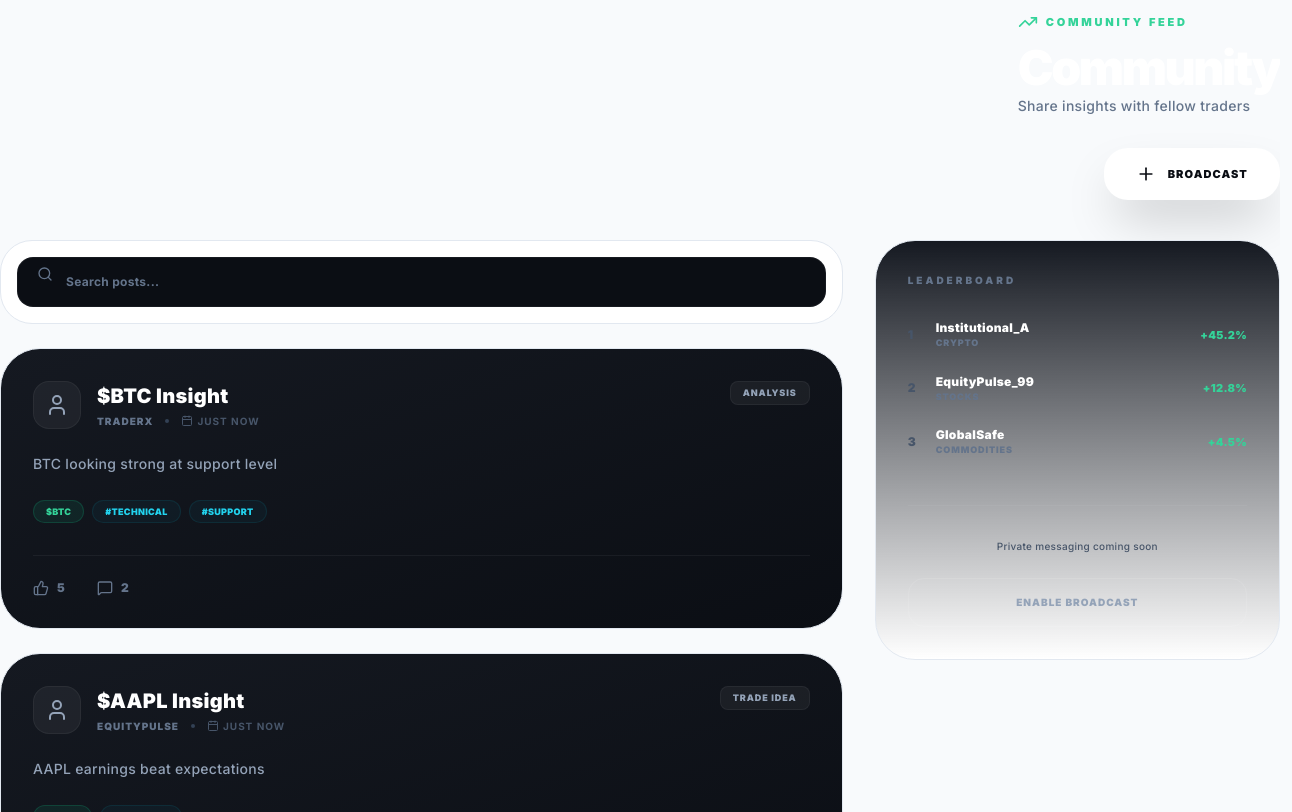
Test: Community › filters posts by search query
expect the text "BTC looking strong at support level" is shown: met, box [33, 455, 277, 472]
In the field with placeholder "Search posts...": (421, 282) [17, 257, 826, 307], type "AAPL"
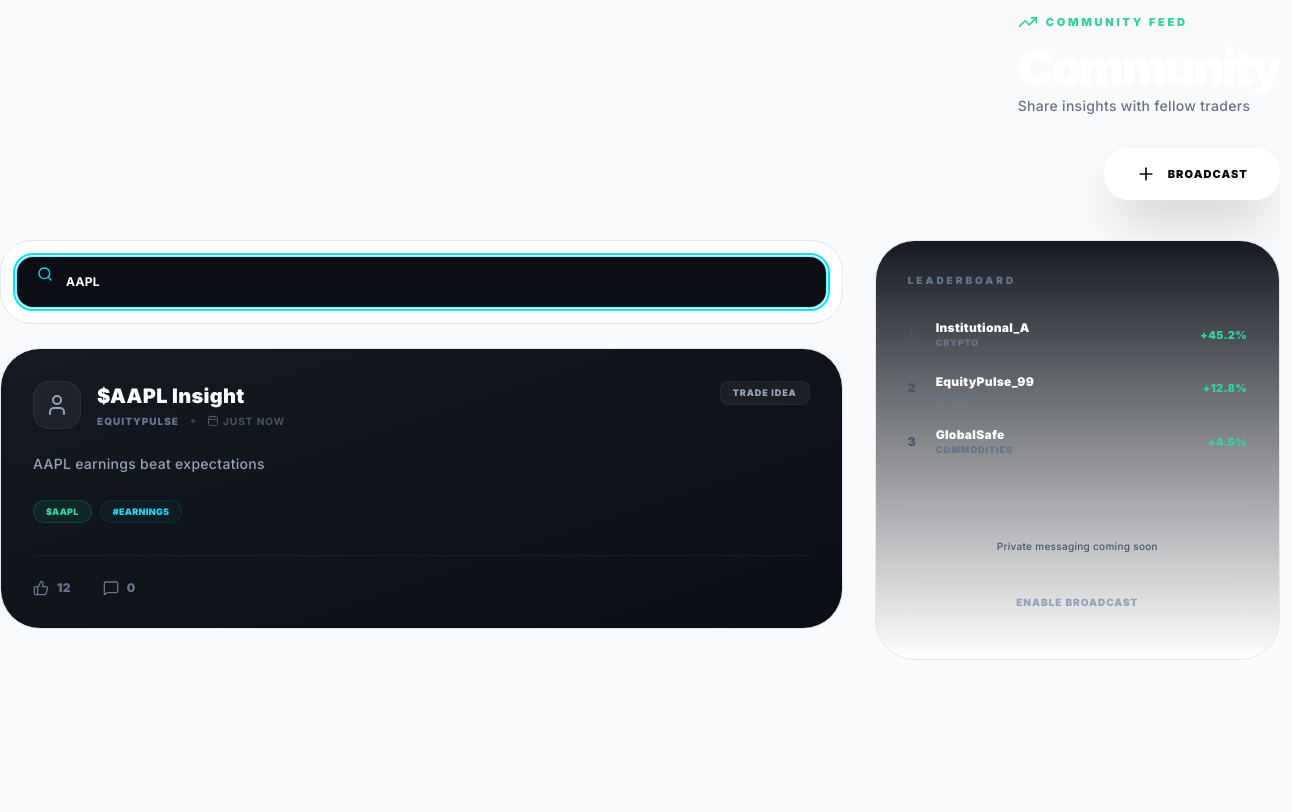
expect the text "AAPL earnings beat expectations" is shown: met, box [33, 455, 265, 472]
expect the text "BTC looking strong at support level" is gone: met
